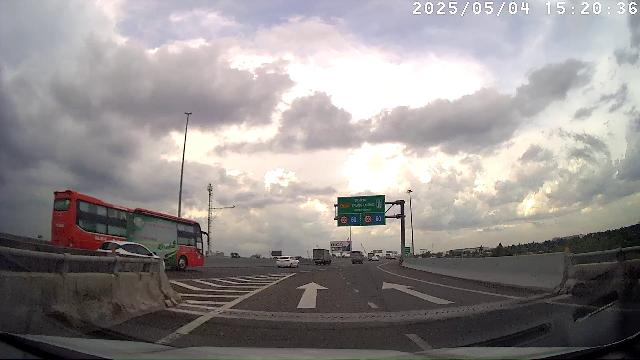127-toc-do-toi-da-100: (363, 214, 372, 223), (340, 216, 348, 224)
306-toc-do-toi-thieu-60: (374, 214, 384, 222), (349, 216, 358, 224)
437-bat-dau-duong-cao-toc: (376, 199, 382, 209)
